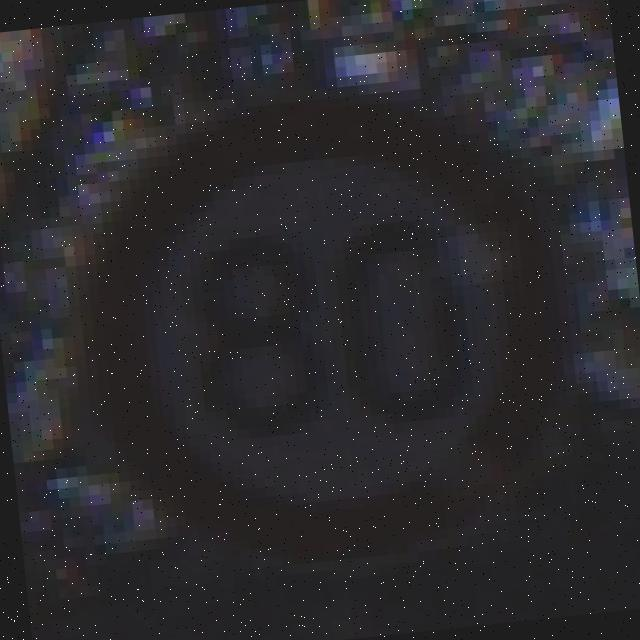Ograniczenie predkosci do 80: (40, 58, 614, 592)
